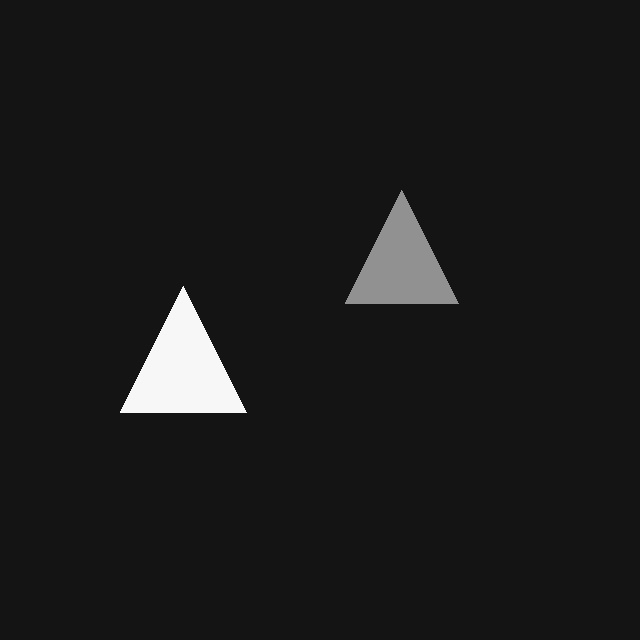triangle: (120, 286, 246, 412), (345, 190, 458, 303)
